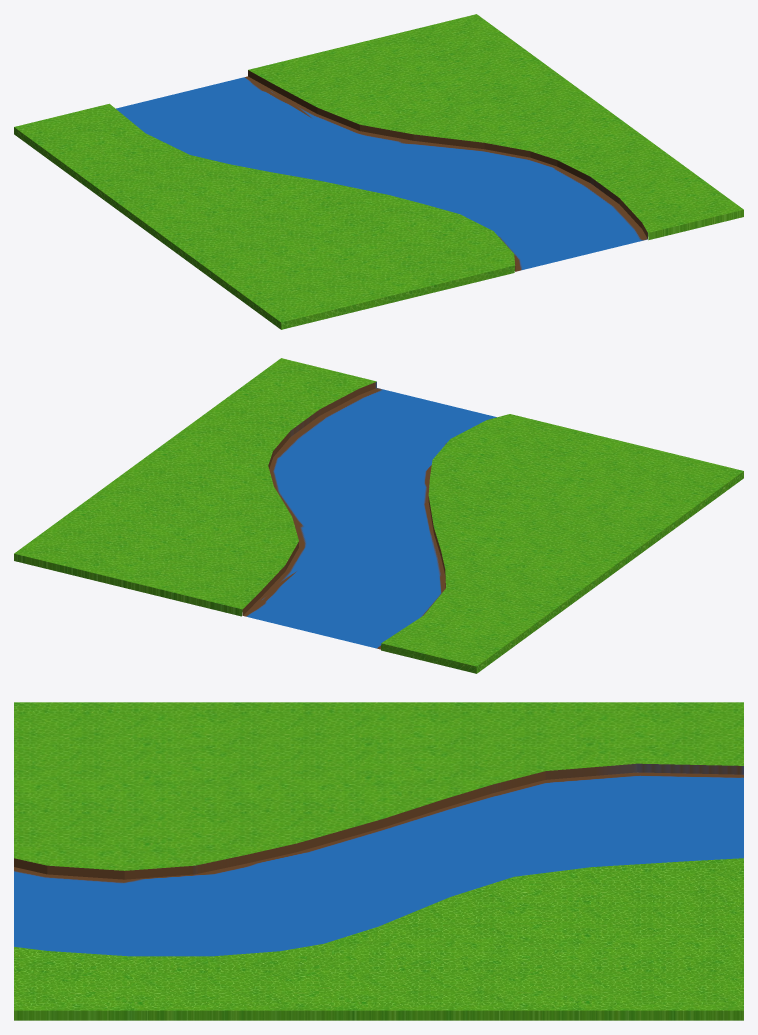
Rendered from BoardGame.fbx.
3 views of the same model, one above another, from view 1: azimuth 30°, elevation 25°; view 2: azimuth 150°, elevation 25°; view 3: azimuth 270°, elevation 25° (orthographic). The views are drawn at different scales.
Visible parts, largest first — view 1: pCube2; view 2: pCube2; view 3: pCube2.
Boxes of the visible parts, x1=… form: pCube2: x1=14, y1=14, x2=743, y2=329; pCube2: x1=14, y1=358, x2=743, y2=673; pCube2: x1=14, y1=702, x2=743, y2=1020.
Bounding box in the file's own units: 23.89 × 0.3605 × 23.89.
